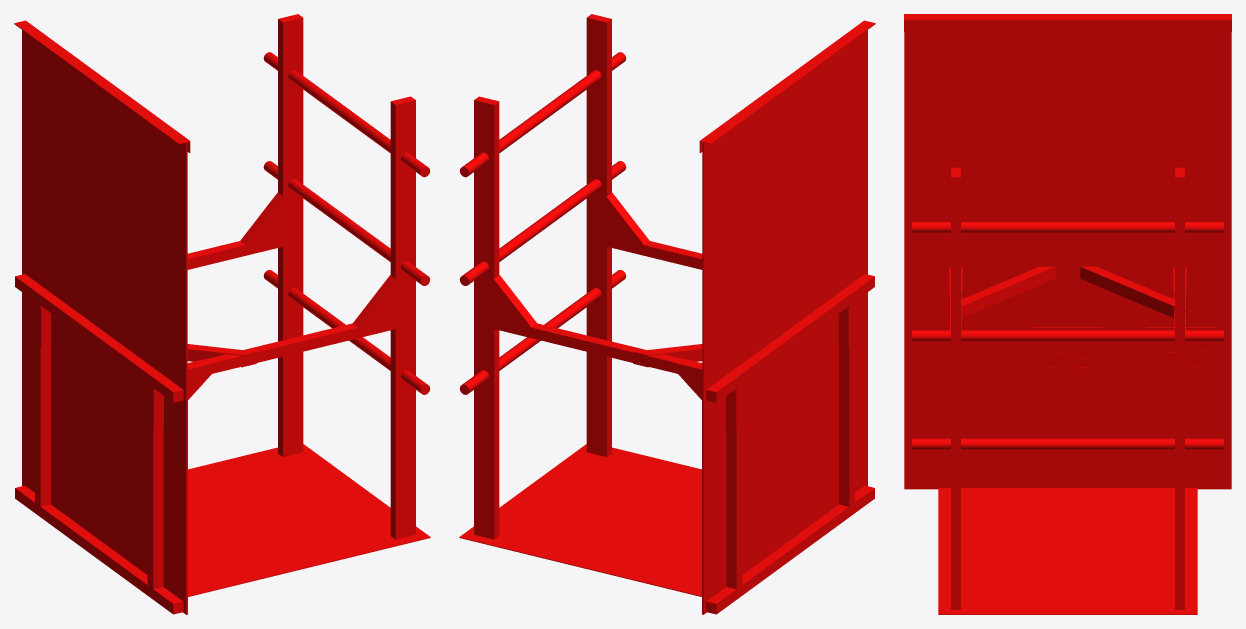
The model's file is BLOCK CAD FIELD - BLOCK CAD- TOWER, RED.gltf.
3 views of the same model, side by side, from view 1: azimuth 30°, elevation 25°; view 2: azimuth 150°, elevation 25°; view 3: azimuth 270°, elevation 25° (orthographic).
Visible parts, largest first — view 1: BLOCK CAD: TOWER, RED; view 2: BLOCK CAD: TOWER, RED; view 3: BLOCK CAD: TOWER, RED.
Boxes of the visible parts, <box> form: BLOCK CAD: TOWER, RED: <box>14,14,430,614</box>; BLOCK CAD: TOWER, RED: <box>459,14,875,614</box>; BLOCK CAD: TOWER, RED: <box>904,14,1231,614</box>.
Size of the model in its own units: 1.19 by 1.99 by 1.25.
